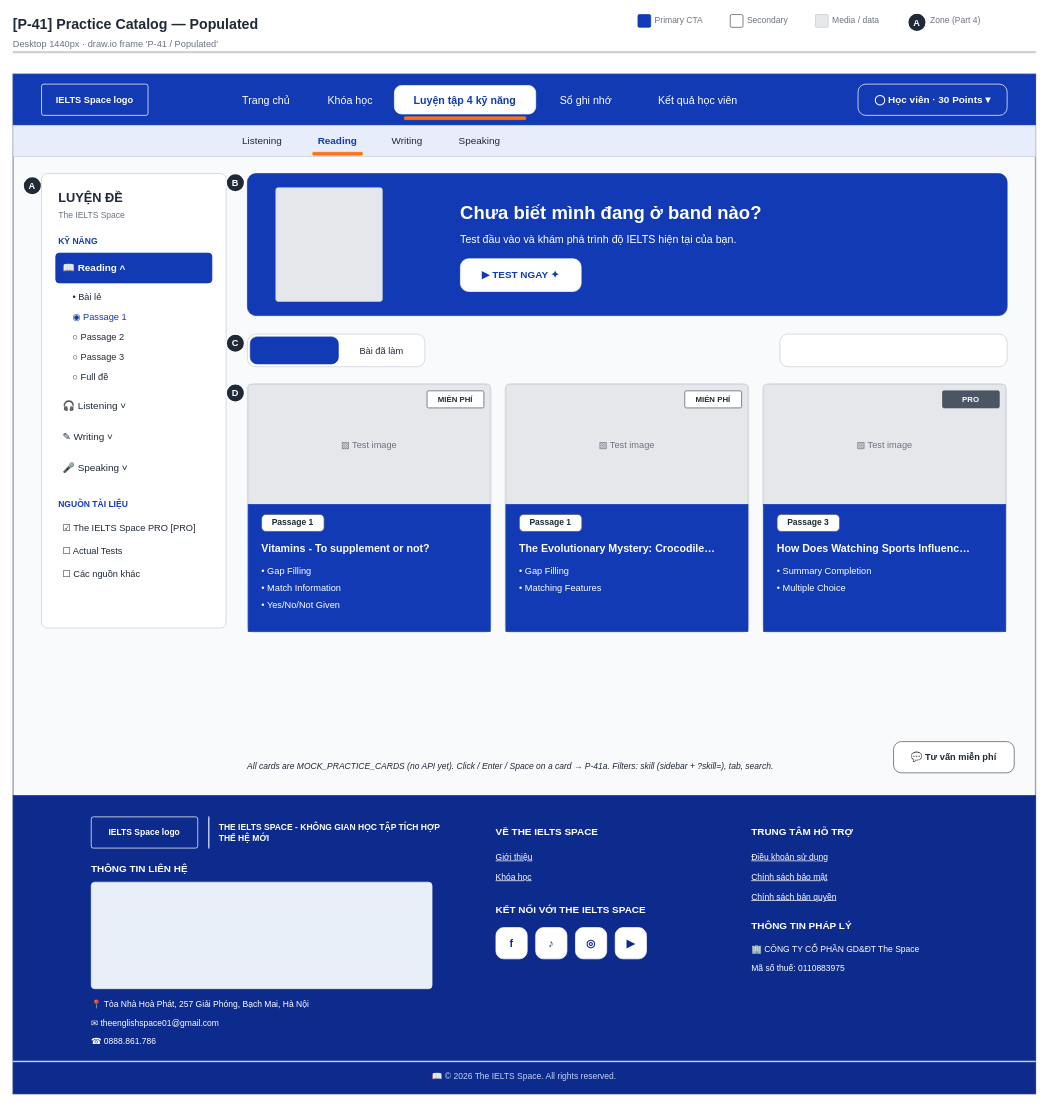
The diagram is 1049 pixels wide and 1106 high, and some of its shapes have lost their labels. The box of each missing label's shape, as (x1, y1, x2, y2) in pixels:
Bài chưa làm: (250, 336, 338, 364)
▨ Owl mascot SVG: (275, 187, 382, 301)
📍 The IELTS Space Mở trong Maps ↗: (91, 881, 432, 989)
🔍 Tìm tên bài tập: (779, 333, 1007, 367)
